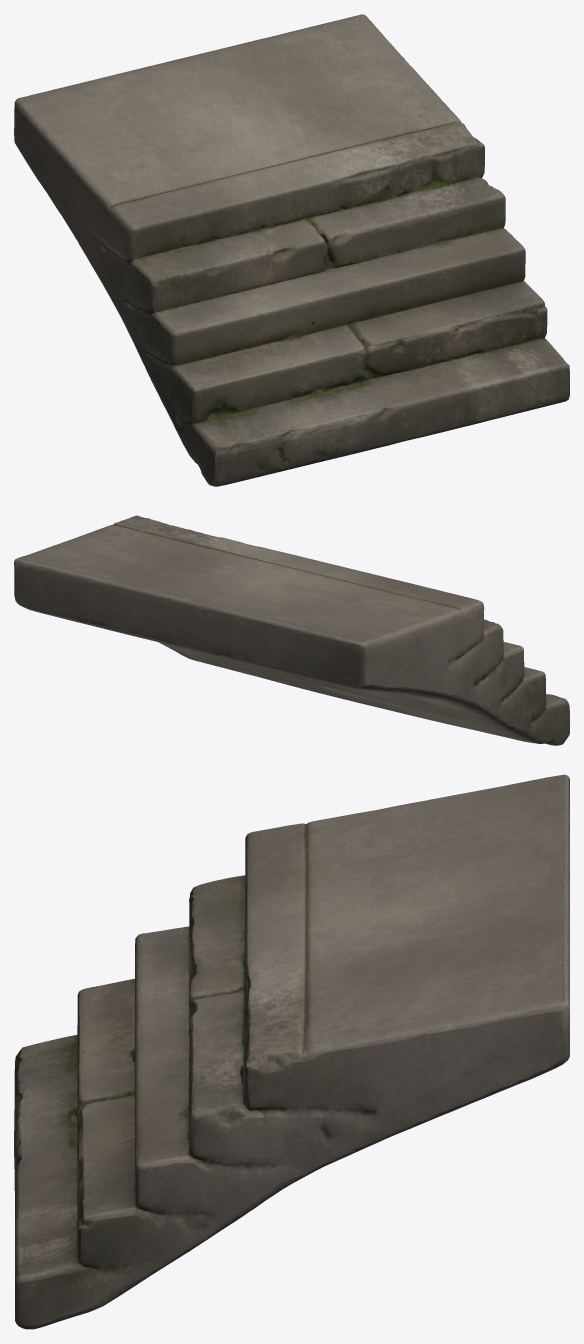
The model's file is ARCH-011.glb.
3 views of the same model, one above another, from view 1: azimuth 30°, elevation 25°; view 2: azimuth 150°, elevation 25°; view 3: azimuth 270°, elevation 25° (orthographic). The views are drawn at different scales.
Parts seen in each view (by area): view 1: world; view 2: world; view 3: world.
Boxes of the visible parts, x1,y1,x2,y2 form: world: (14, 14, 569, 486); world: (14, 515, 569, 745); world: (14, 774, 569, 1329).
Size of the model in its own units: 1.2 by 0.7893 by 1.2.
Materials: 1 (1 with a texture image).
